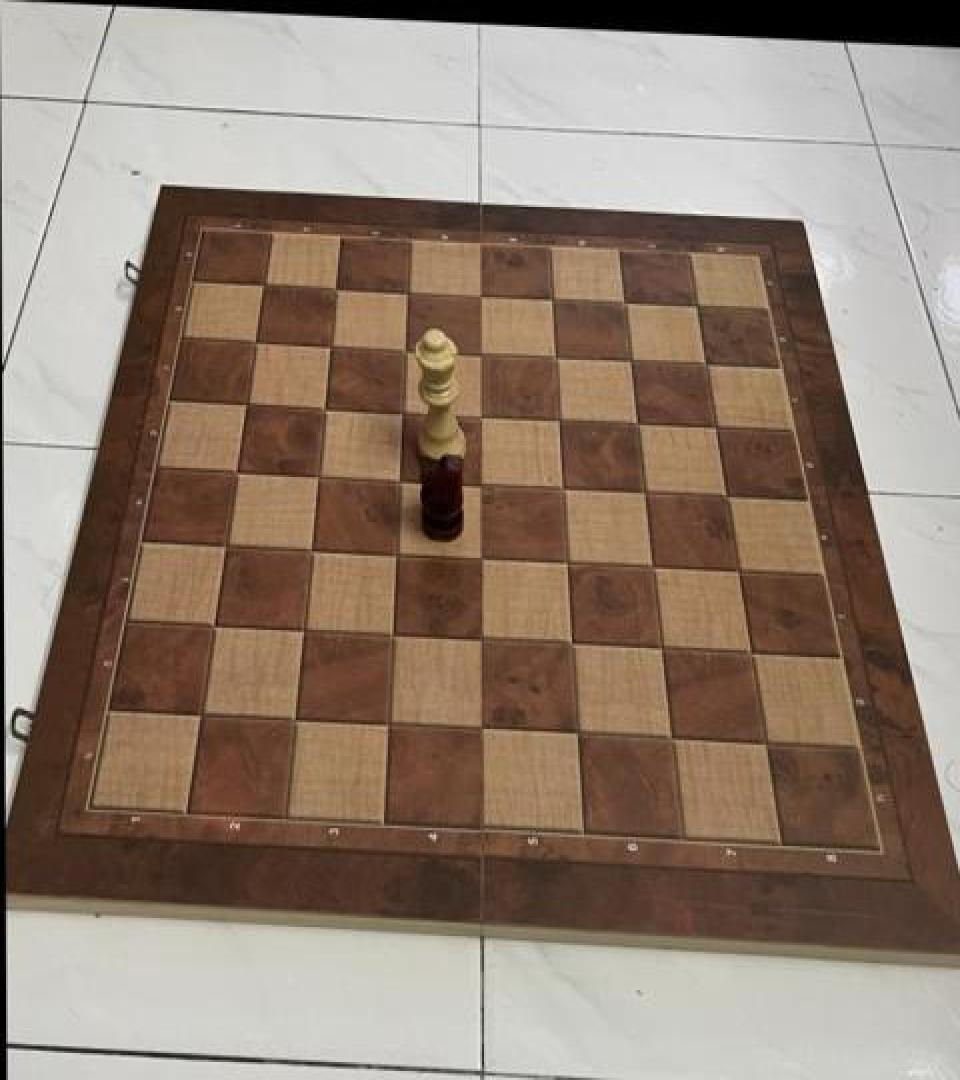xcorner: (389, 272, 423, 311), (198, 606, 232, 645), (372, 705, 406, 744), (677, 285, 711, 323), (605, 282, 639, 320), (533, 278, 567, 316), (461, 276, 495, 314), (317, 269, 351, 307), (246, 266, 280, 304), (687, 343, 721, 381), (612, 340, 646, 378), (536, 336, 570, 374), (462, 333, 496, 371), (387, 330, 421, 368), (312, 326, 346, 364), (238, 323, 272, 361), (697, 406, 731, 444), (619, 403, 653, 441), (540, 400, 574, 438), (462, 396, 496, 434), (384, 392, 418, 430), (307, 388, 341, 426), (229, 385, 263, 423), (708, 476, 742, 514), (626, 472, 660, 510), (545, 468, 579, 506), (463, 464, 497, 502), (382, 460, 416, 498), (301, 456, 335, 494), (219, 452, 253, 490), (721, 550, 755, 588), (635, 547, 669, 585), (549, 542, 583, 580), (464, 538, 498, 576), (379, 534, 413, 572), (294, 530, 328, 568), (209, 526, 243, 564), (734, 634, 768, 672), (644, 629, 678, 667), (555, 624, 589, 662), (465, 620, 499, 658), (376, 616, 410, 654), (287, 611, 321, 649), (749, 724, 783, 762), (655, 719, 689, 757), (560, 714, 594, 752), (466, 710, 500, 748), (279, 700, 313, 738), (185, 696, 219, 734)
